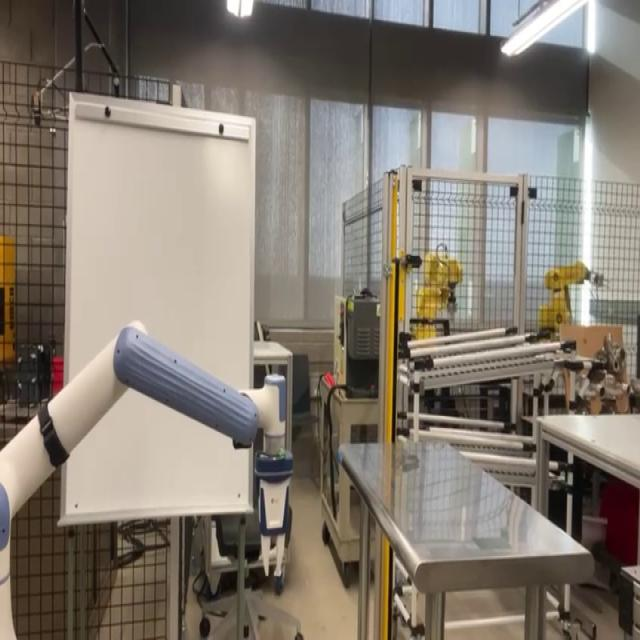robot: (0, 311, 303, 639)
